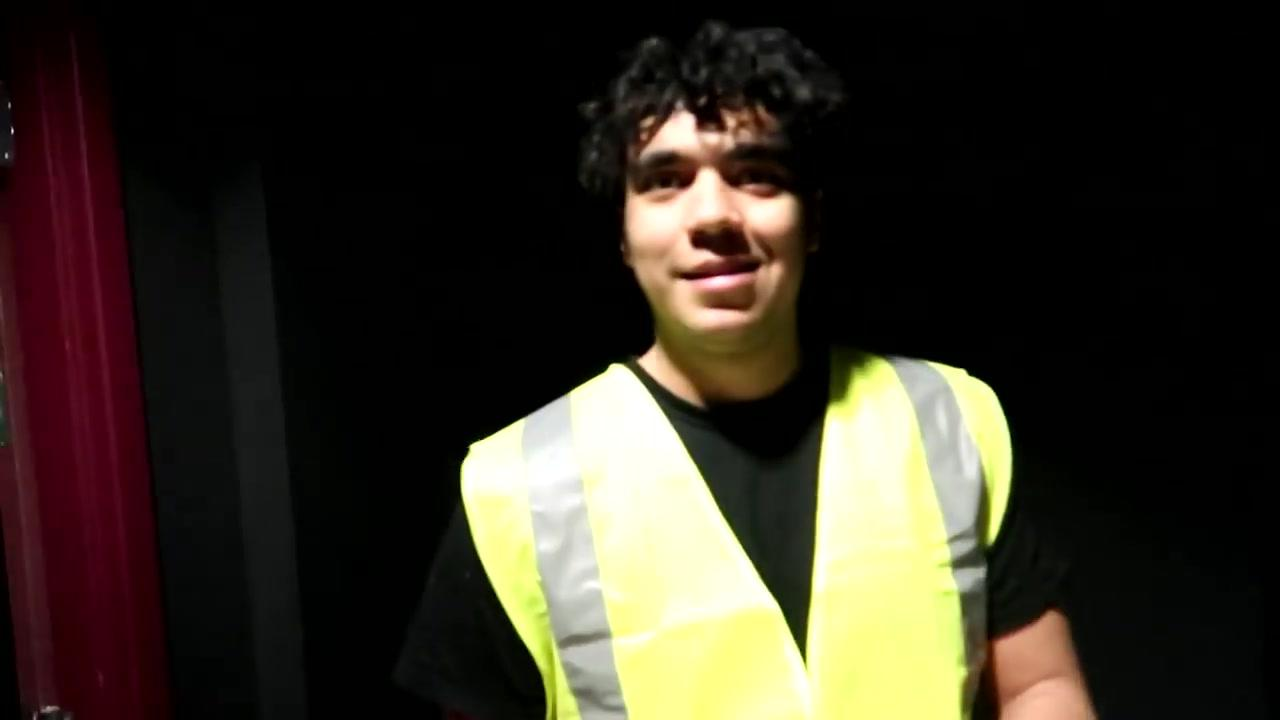Hi-Vis Jacket: (471, 365, 990, 720)
